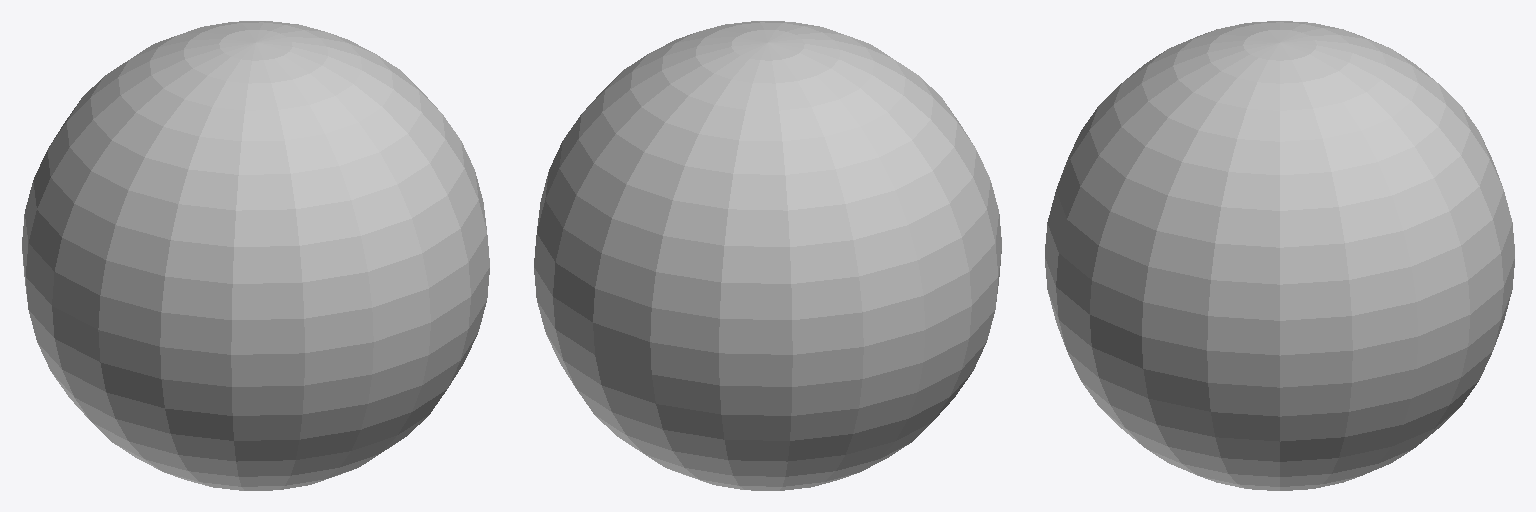
File: player_Rleg_joint.obj
3 renders of one model, left to right at view 1: azimuth 30°, elevation 25°; view 2: azimuth 150°, elevation 25°; view 3: azimuth 270°, elevation 25°, orthographic.
Visible parts, largest first — view 1: pSphere6; view 2: pSphere6; view 3: pSphere6.
Part boxes in pixels (left/top/right/bottom): pSphere6: left=22, top=21, right=489, bottom=490; pSphere6: left=534, top=21, right=1001, bottom=490; pSphere6: left=1045, top=21, right=1514, bottom=490.
Bounding box in the file's own units: 0.3834 × 0.3834 × 0.3834.